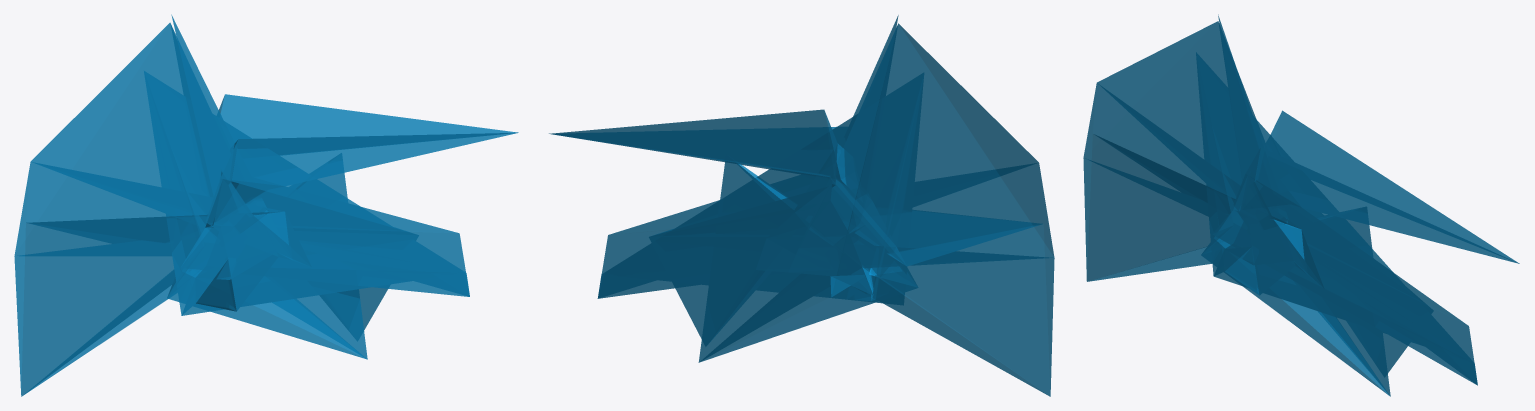
File: Sample2.fbx
The picture shows the model from 3 angles, left to right: view 1: azimuth 30°, elevation 25°; view 2: azimuth 150°, elevation 25°; view 3: azimuth 330°, elevation 25°; orthographic projection. The views are drawn at different scales.
Parts seen in each view (by area): view 1: Cube; view 2: Cube; view 3: Cube.
Part boxes in pixels (bbox=[...]): Cube: bbox=[14, 14, 518, 396]; Cube: bbox=[549, 15, 1054, 396]; Cube: bbox=[1083, 14, 1519, 396].
Bounding box in the file's own units: 4.91 × 3.67 × 0.3248.
